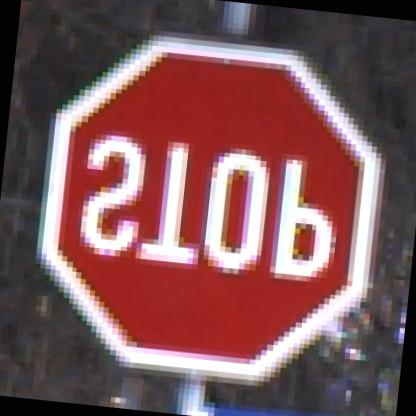stop: (9, 10, 399, 405)
